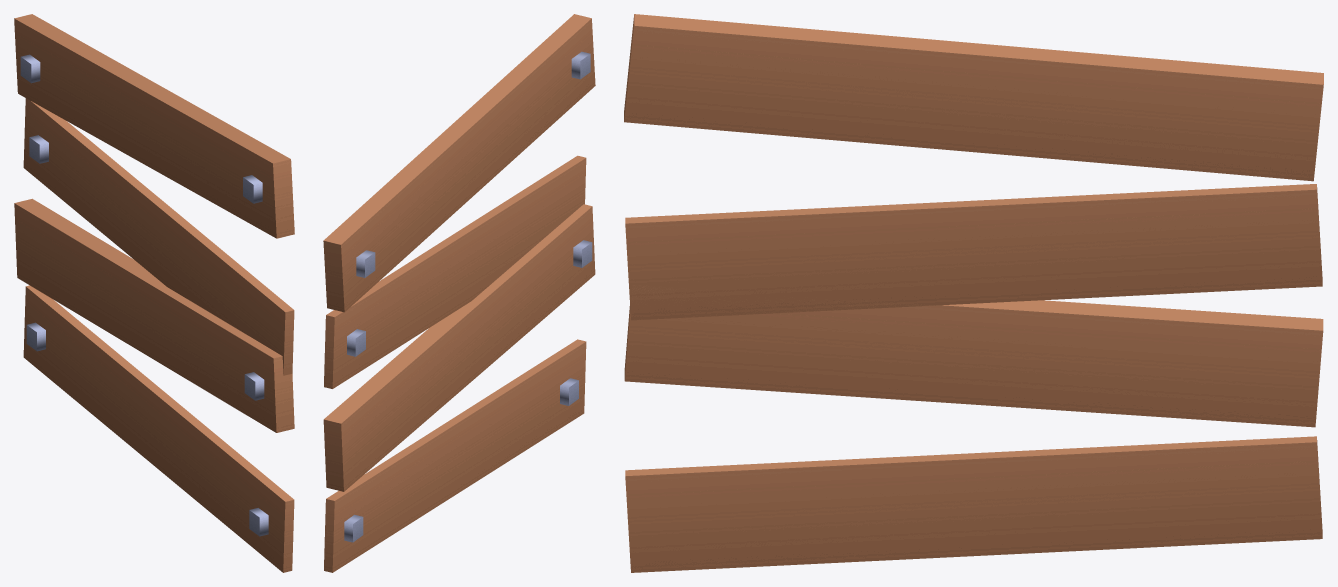
The model's file is barricade-window-b.glb.
The picture shows the model from 3 angles, left to right: view 1: azimuth 30°, elevation 25°; view 2: azimuth 150°, elevation 25°; view 3: azimuth 270°, elevation 25°; orthographic projection. The views are drawn at different scales.
Parts seen in each view (by area): view 1: barricade-window-b; view 2: barricade-window-b; view 3: barricade-window-b.
Part boxes in pixels (x1=…): barricade-window-b: x1=14, y1=14, x2=294, y2=572; barricade-window-b: x1=323, y1=14, x2=595, y2=572; barricade-window-b: x1=624, y1=14, x2=1323, y2=572.
Bounding box in the file's own units: 0.075 × 1.08 × 1.26.
Materials: 1 (1 with a texture image).
